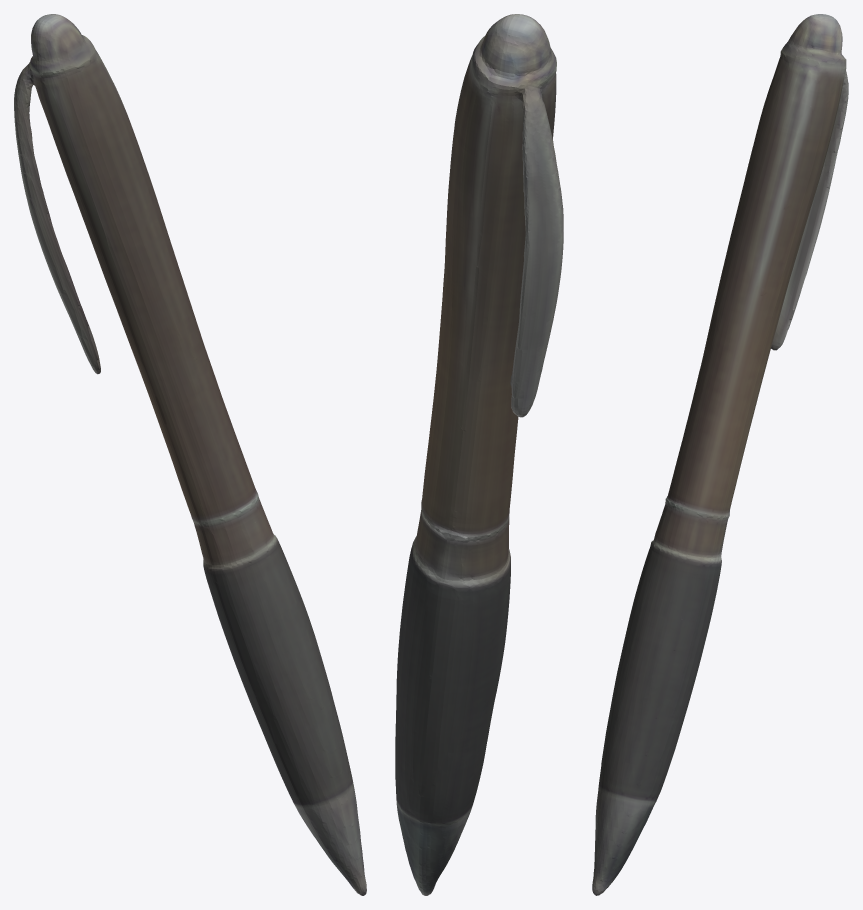
Rendered from frame_0010_source_000010_object.glb.
The picture shows the model from 3 angles, left to right: view 1: azimuth 30°, elevation 25°; view 2: azimuth 150°, elevation 25°; view 3: azimuth 270°, elevation 25°; orthographic projection. The views are drawn at different scales.
Visible parts, largest first — view 1: world; view 2: world; view 3: world.
Boxes of the visible parts, x1=… form: world: x1=14, y1=14, x2=366, y2=895; world: x1=395, y1=14, x2=563, y2=895; world: x1=592, y1=14, x2=848, y2=895.
Bounding box in the file's own units: 0.0519 × 0.1812 × 0.0532.
